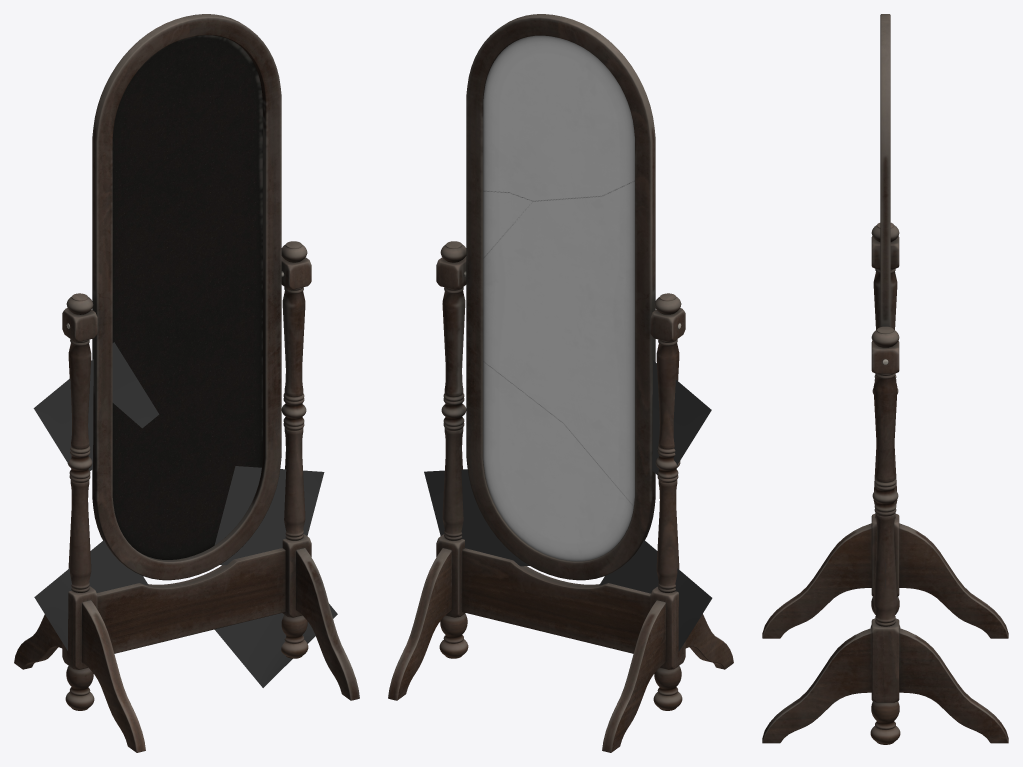
Rendered from antique_standing_mirror.glb.
The picture shows the model from 3 angles, left to right: view 1: azimuth 30°, elevation 25°; view 2: azimuth 150°, elevation 25°; view 3: azimuth 270°, elevation 25°; orthographic projection.
Parts seen in each view (by area): view 1: antique_standing_mirror; view 2: antique_standing_mirror; view 3: antique_standing_mirror.
Boxes of the visible parts, x1,y1,x2,y2 form: antique_standing_mirror: (14,14,359,752); antique_standing_mirror: (388,14,733,752); antique_standing_mirror: (762,14,1008,744).
Size of the model in its own units: 0.8946 by 1.94 by 0.6275.
Materials: 1 (1 with a texture image).
